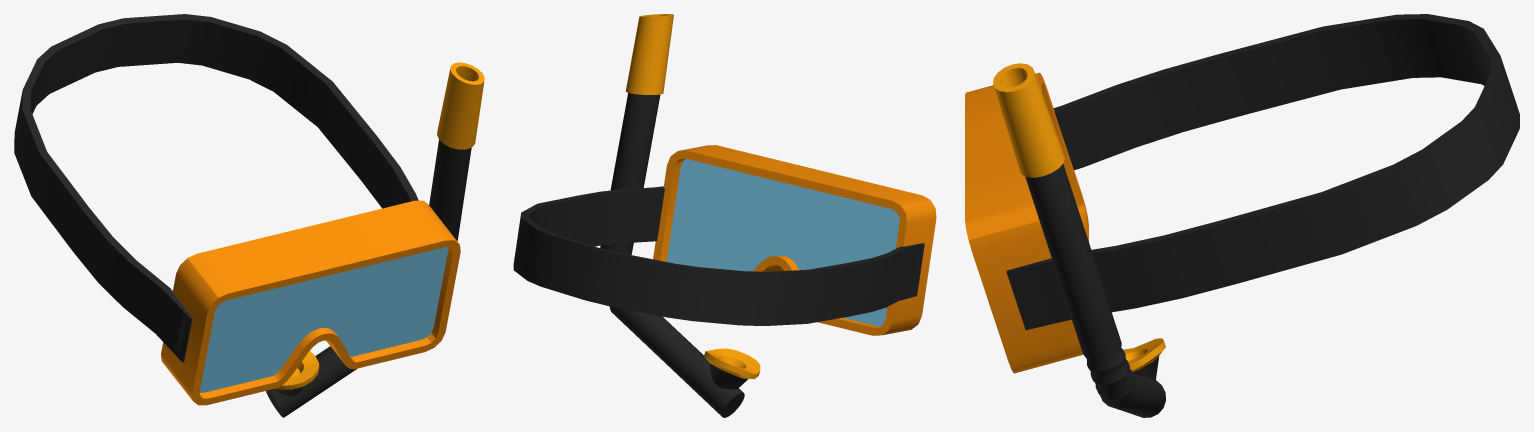
Rendered from diving_mask.fbx.
3 renders of one model, left to right at view 1: azimuth 30°, elevation 25°; view 2: azimuth 150°, elevation 25°; view 3: azimuth 270°, elevation 25°, orthographic. The views are drawn at different scales.
Visible parts, largest first — view 1: Plane.308; view 2: Plane.308; view 3: Plane.308.
Boxes of the visible parts, x1,y1,x2,y2 form: Plane.308: (14,14,484,417); Plane.308: (513,14,936,417); Plane.308: (965,14,1519,417).
Size of the model in its own units: 202 by 215 by 256.
1 material, 1 textured.
